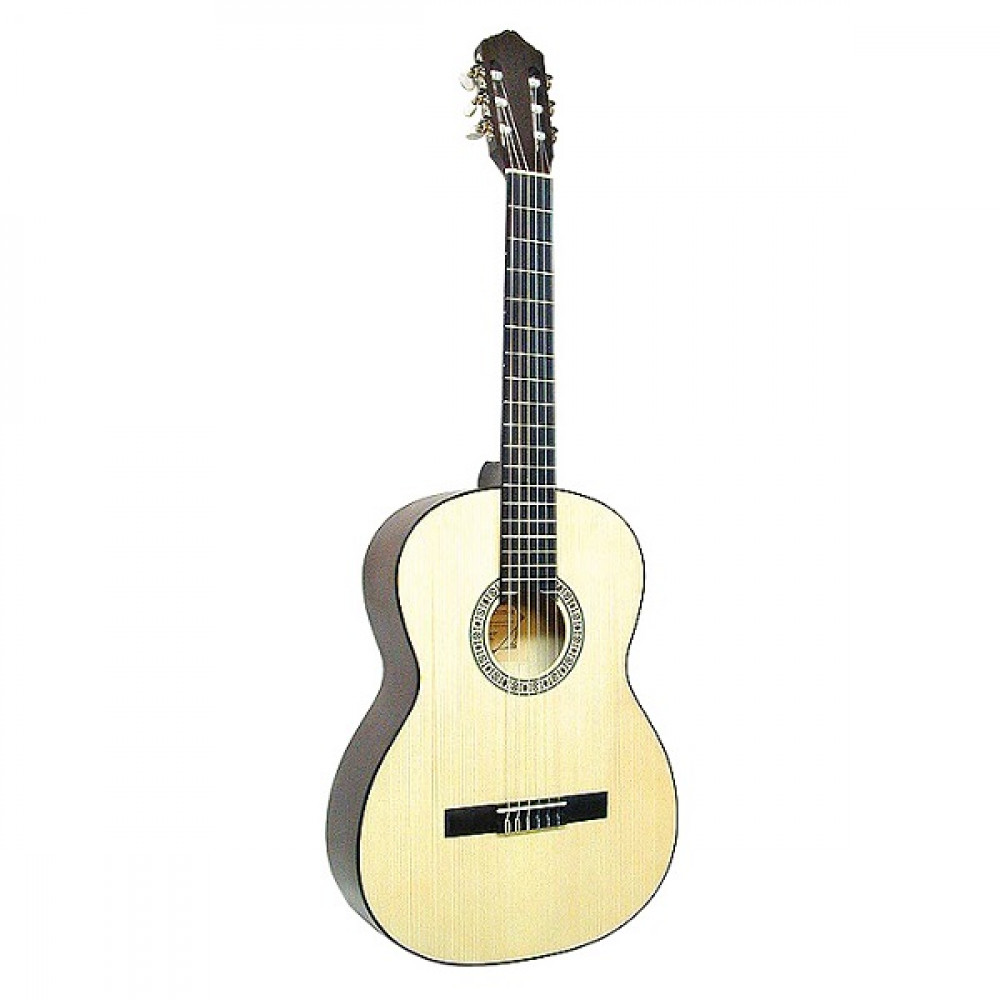0 classic: (324, 28, 679, 965)
